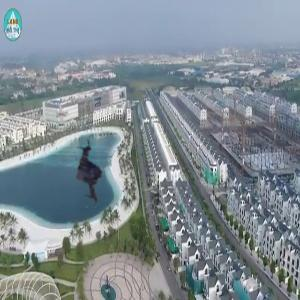drone: (48, 133, 126, 211)
